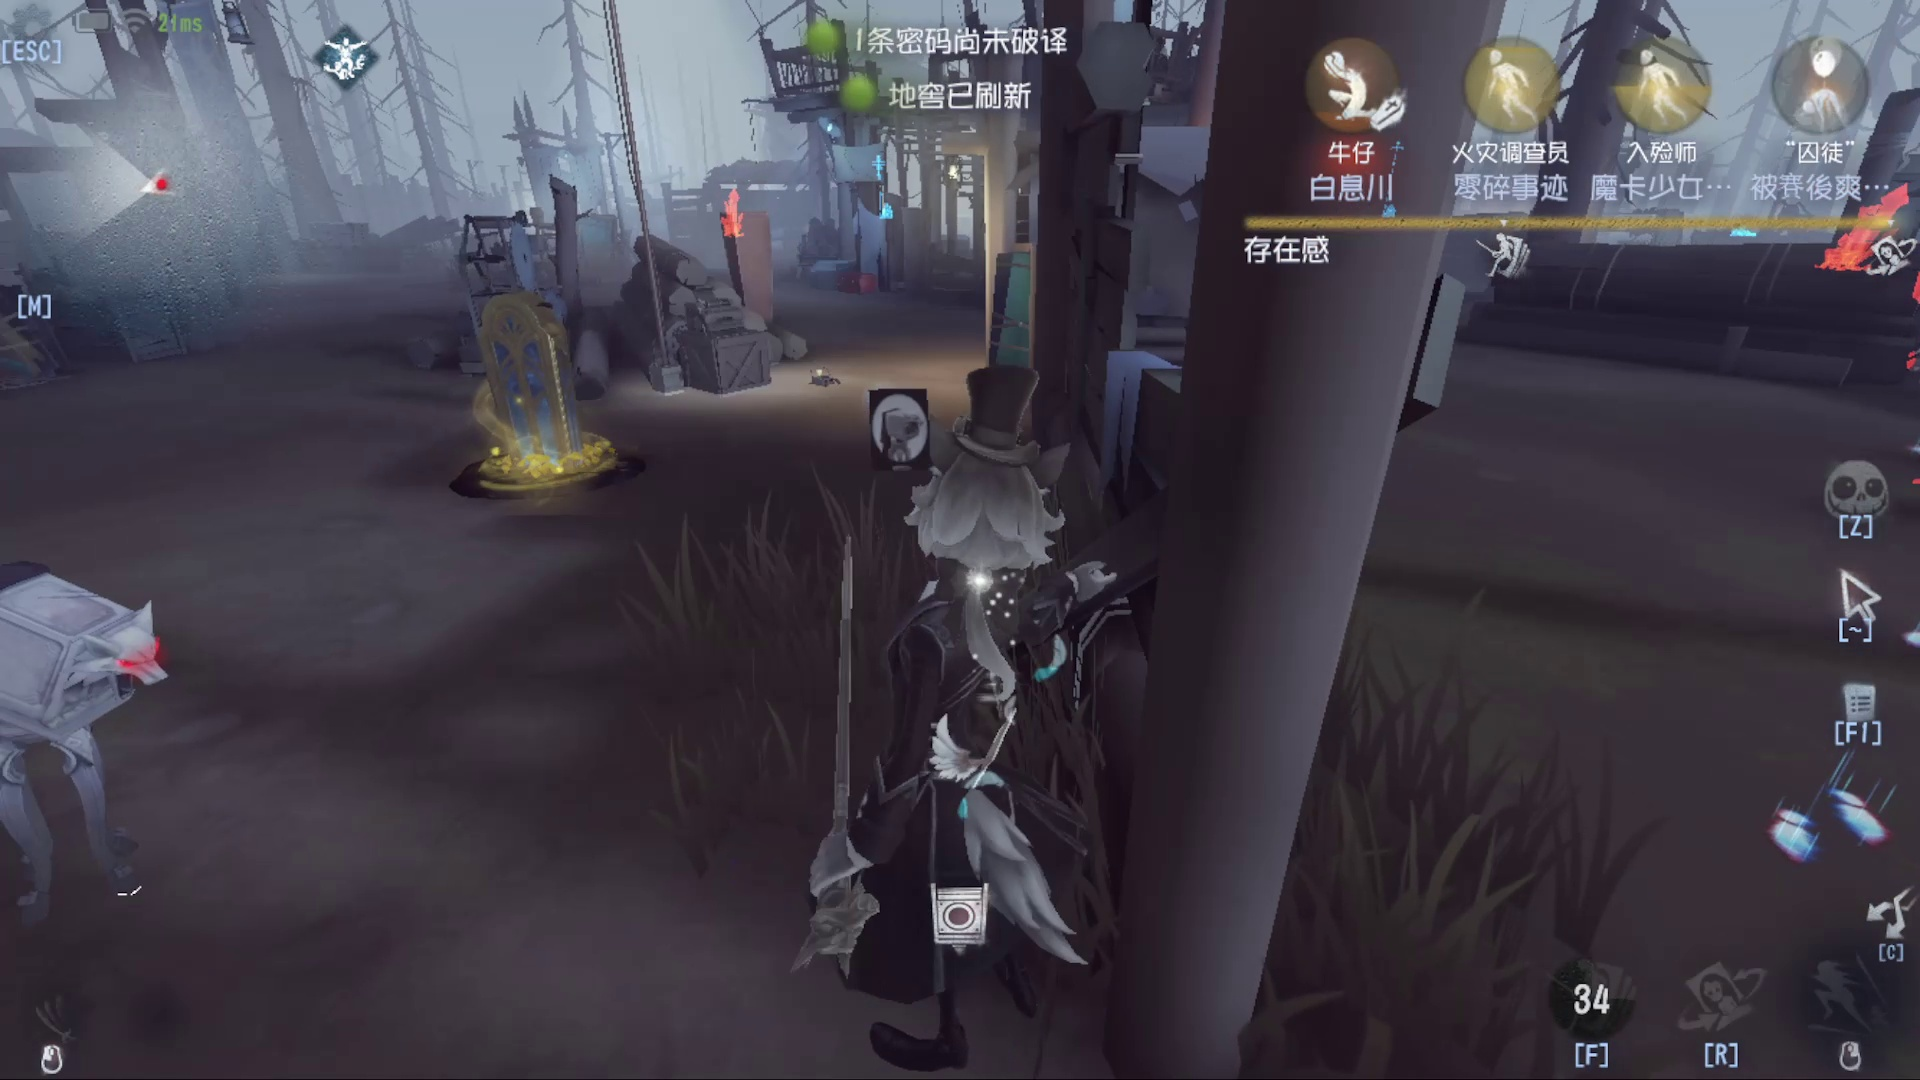密码机: (860, 133, 910, 233), (1383, 120, 1420, 233)
木板: (978, 237, 1069, 389)
狂欢之椅: (1833, 171, 1899, 291), (715, 182, 748, 255)
